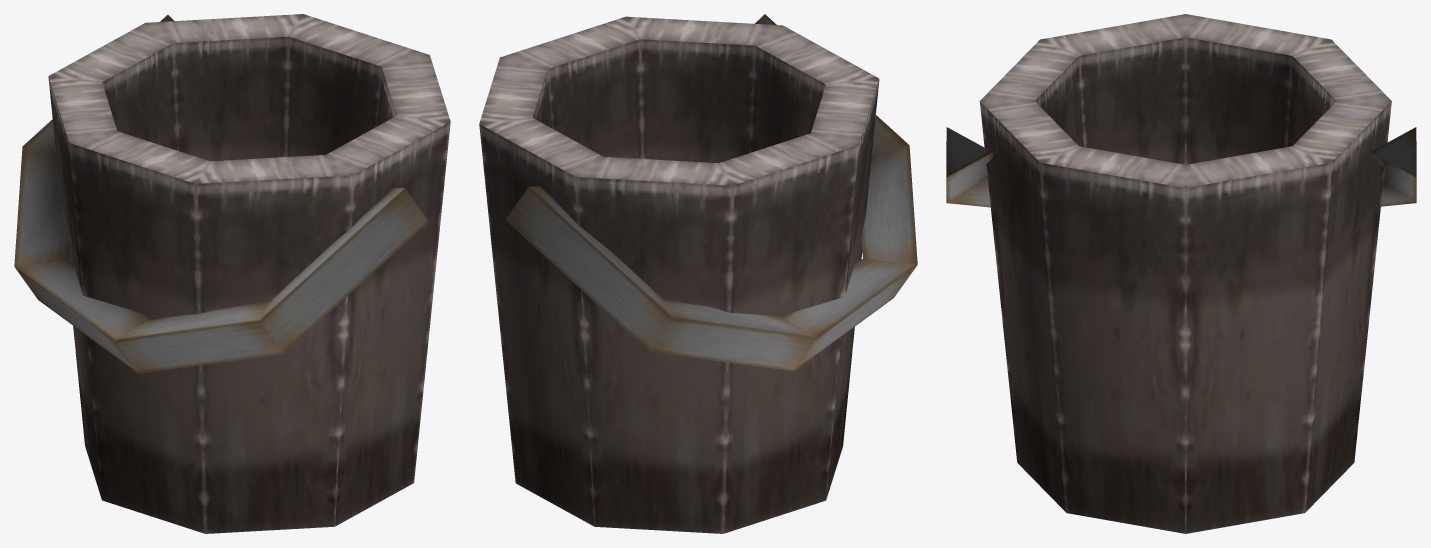
Rendered from bucket.obj.
3 views of the same model, side by side, from view 1: azimuth 30°, elevation 25°; view 2: azimuth 150°, elevation 25°; view 3: azimuth 270°, elevation 25° (orthographic).
Visible parts, largest first — view 1: 0, 1; view 2: 0, 1; view 3: 0, 1.
Boxes of the visible parts, x1,y1,x2,y2 form: 0: (48,14,450,533); 1: (14,15,428,373); 0: (479,16,879,533); 1: (505,14,917,371); 0: (979,14,1391,533); 1: (946,127,1416,207).
Bounding box in the file's own units: 0.9572 × 0.9095 × 1.07.
Materials: 2 (2 with a texture image).
